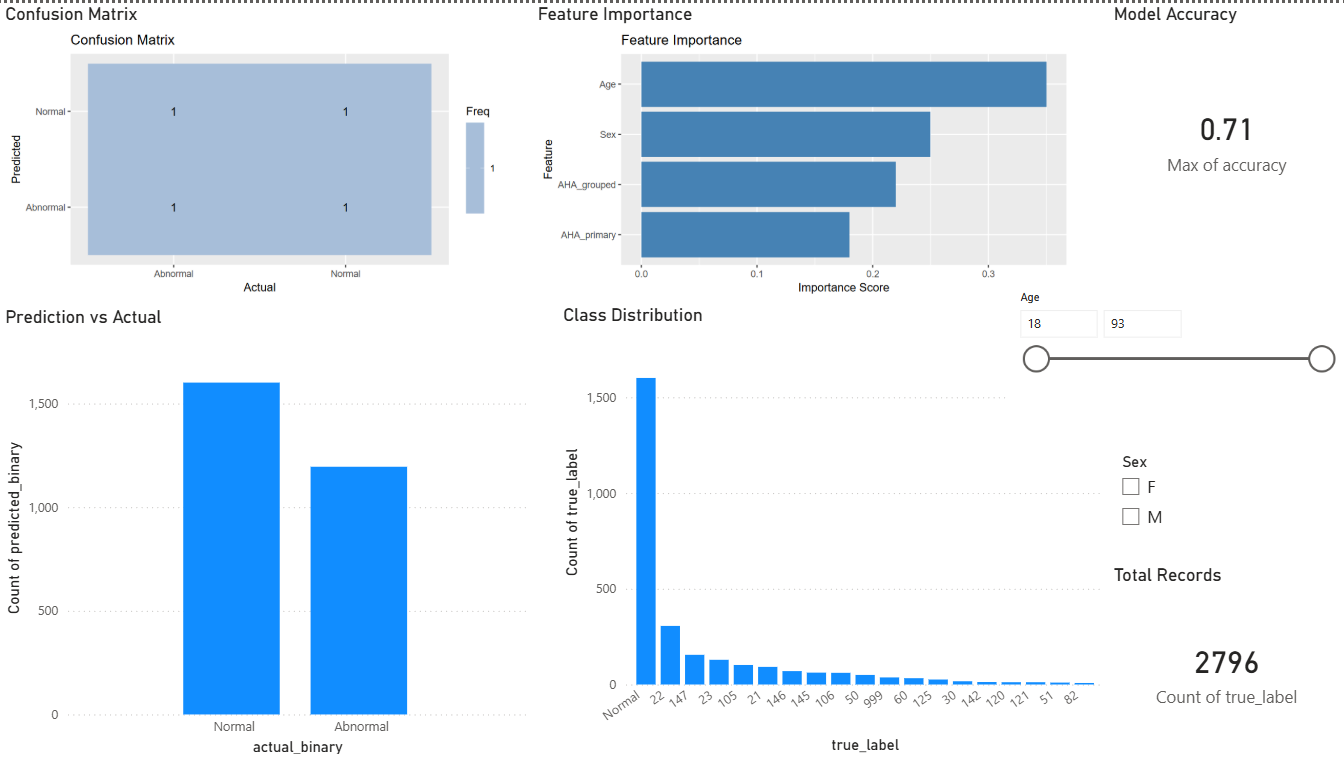

The dashboard page shown, as its layout file describes it:
{"tool":"powerbi","page":{"name":"Page 1","canvas":[1280,720],"ordinal":0},"visuals":[{"type":"clusteredColumnChart","title":"Class Distribution","fields":{"Category":["ecg_results.true_label"],"Y":["CountNonNull(ecg_results.true_label)"]},"box":[531.6,287.7,524.6,431.6],"z":0},{"type":"slicer","fields":{"Values":["ecg_results.Sex"]},"box":[1055.7,422.9,224.3,161.4],"z":1000},{"type":"clusteredColumnChart","title":"Prediction vs Actual","fields":{"Category":["ecg_results.actual_binary"],"Y":["CountNonNull(ecg_results.predicted_binary)"]},"box":[0,288.3,506.7,431.7],"z":2000},{"type":"card","title":"Model Accuracy","fields":{"Values":["Max(model_metrics.accuracy)"]},"box":[1055.7,0,224.3,238.6],"z":3000},{"type":"scriptVisual","title":"Confusion Matrix","fields":{"Values":["ecg_results.predicted_binary","ecg_results.actual_binary"]},"box":[0,0,487.7,287.7],"z":5000},{"type":"scriptVisual","title":"Feature Importance","fields":{"Values":["ecg_results.Age","ecg_results.AHA_grouped","ecg_results.AHA_primary","ecg_results.Sex"]},"box":[507,0,519.3,287.7],"z":6000},{"type":"slicer","fields":{"Values":["ecg_results.Age"]},"box":[958.6,268.6,321.4,120],"z":8000},{"type":"card","title":"Total Records","fields":{"Values":["CountNonNull(ecg_results.true_label)"]},"box":[1055.7,534.3,224.3,184.3],"z":8001}]}

Visuals, with their boxes in screenshot pixels (x1, y1, x2, y2), scaled from the page's 1280x720 canvas onto the 1344x758 screenshot:
"Class Distribution" clusteredColumnChart: x1=558, y1=303, x2=1109, y2=757
slicer - ecg_results.Sex: x1=1108, y1=445, x2=1343, y2=615
"Prediction vs Actual" clusteredColumnChart: x1=0, y1=304, x2=532, y2=757
"Model Accuracy" card: x1=1108, y1=0, x2=1343, y2=251
"Confusion Matrix" scriptVisual: x1=0, y1=0, x2=512, y2=303
"Feature Importance" scriptVisual: x1=532, y1=0, x2=1078, y2=303
slicer - ecg_results.Age: x1=1007, y1=283, x2=1343, y2=409
"Total Records" card: x1=1108, y1=562, x2=1343, y2=757
